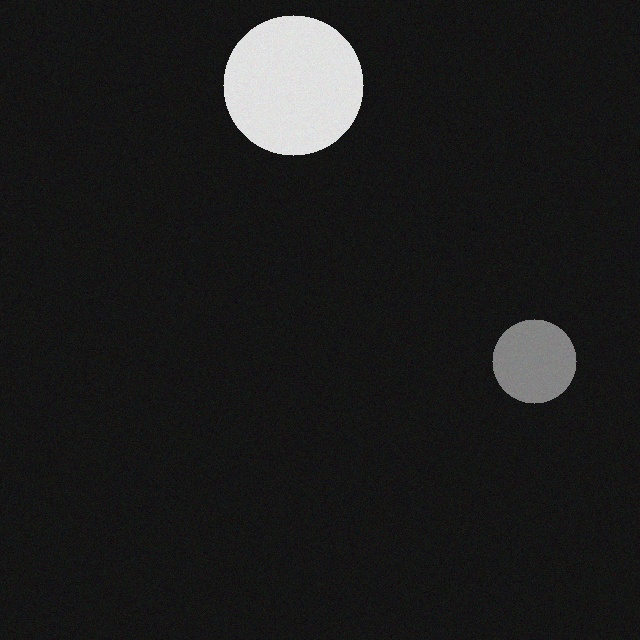circle: (211, 23, 351, 163), (480, 327, 564, 411)
